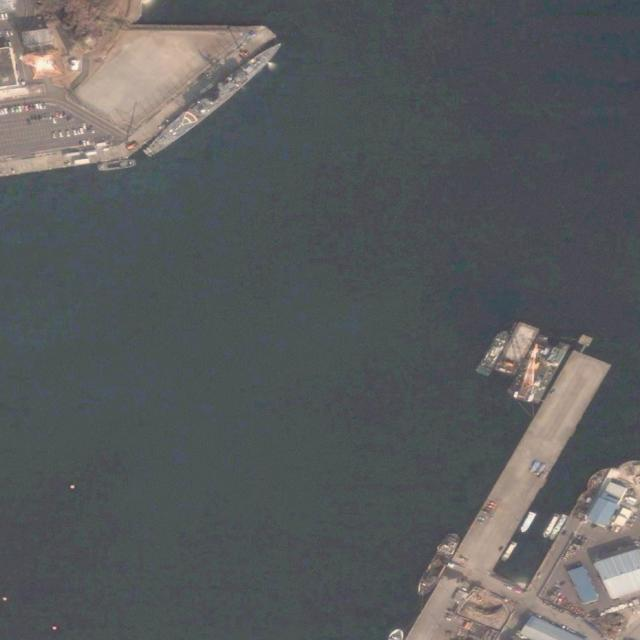Destroyer: (146, 37, 286, 158), (473, 327, 512, 379)
Dock: (453, 330, 619, 573)
Other Ship: (412, 529, 464, 600), (540, 511, 562, 540), (548, 513, 568, 541), (96, 159, 139, 171), (500, 540, 518, 564), (518, 511, 536, 534)
